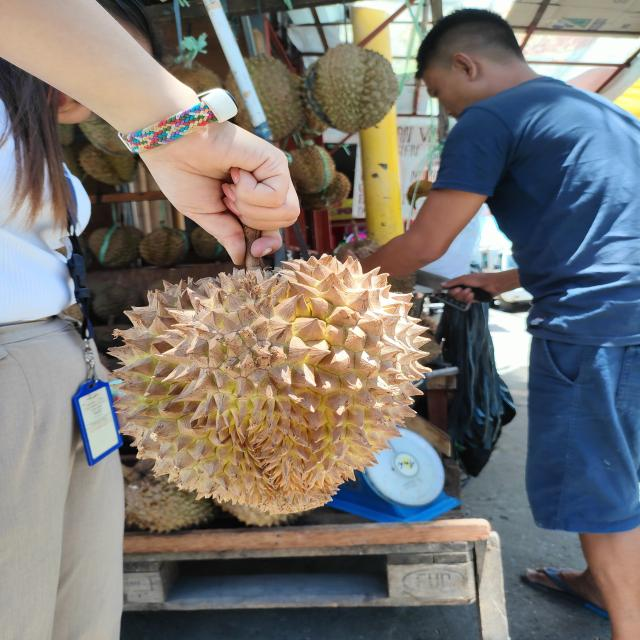mature: (105, 257, 432, 514)
